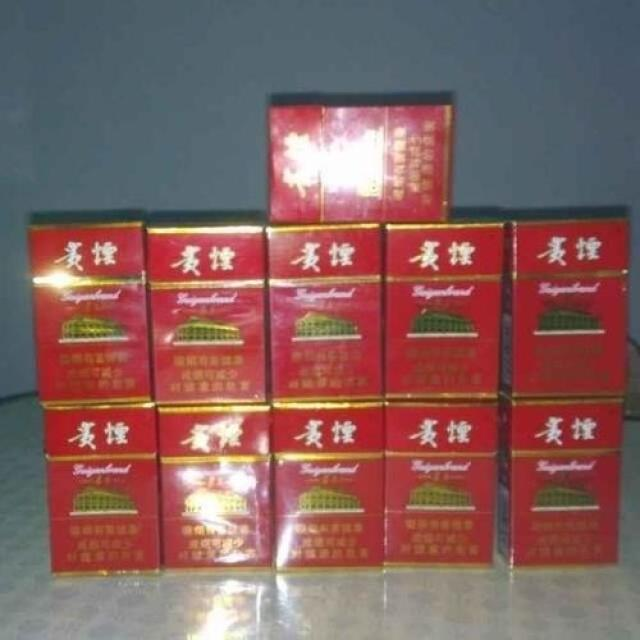box: (28, 209, 151, 408), (266, 92, 454, 221), (148, 210, 270, 407), (499, 220, 627, 399), (384, 216, 503, 401), (498, 398, 623, 572), (268, 221, 385, 402), (42, 403, 161, 577), (381, 402, 498, 568), (271, 402, 385, 572), (156, 406, 271, 573)
